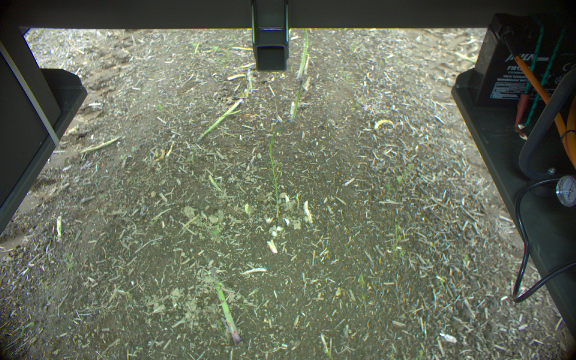aspa: (206, 266, 240, 346), (197, 100, 245, 144), (297, 26, 312, 80), (290, 76, 304, 123), (244, 68, 252, 92)
